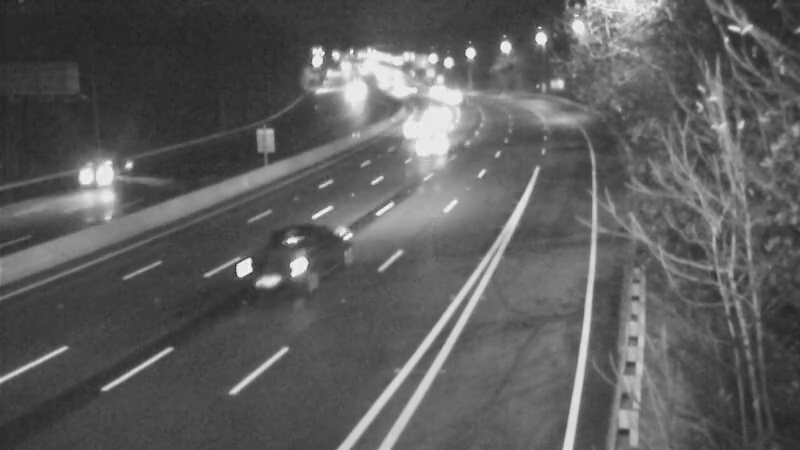vehicle: (224, 225, 304, 305), (62, 135, 142, 215), (408, 66, 458, 116), (427, 73, 477, 123), (412, 91, 462, 141), (389, 106, 439, 156), (411, 123, 461, 173), (331, 68, 381, 118)
